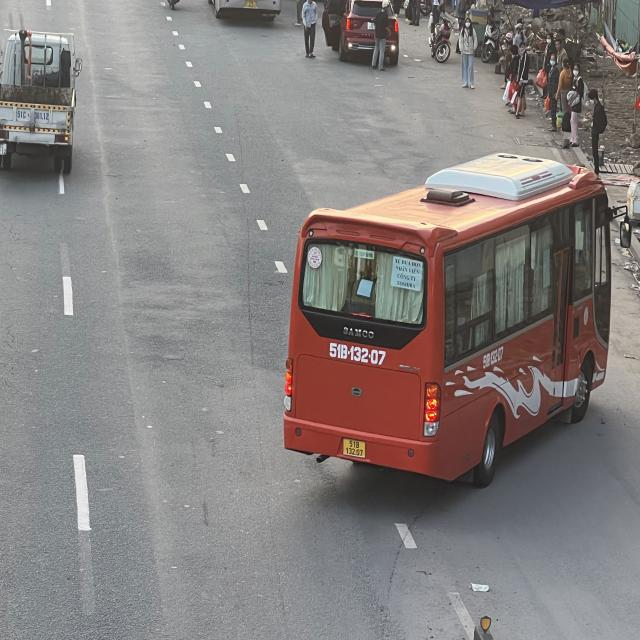car: (329, 0, 403, 61)
coach: (285, 161, 617, 486)
truck: (0, 30, 80, 171)
